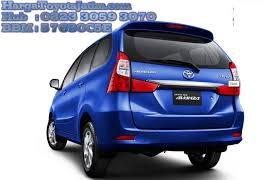mobil: (43, 19, 247, 172)
